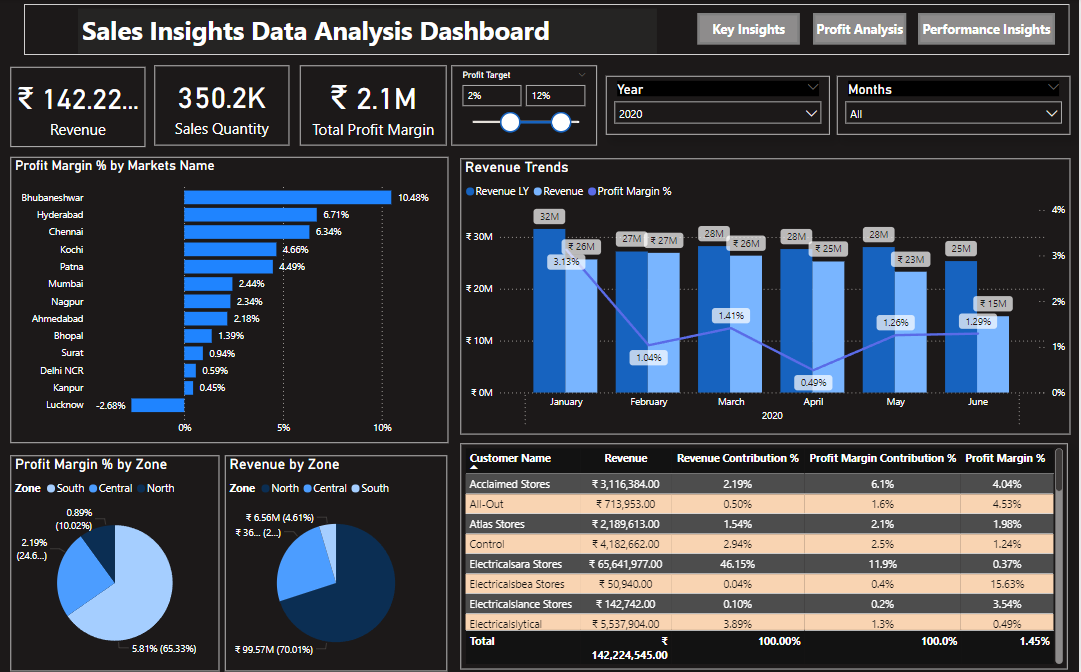

The dashboard page shown, as its layout file describes it:
{"tool":"powerbi","page":{"name":"Performance insights","canvas":[1350,850],"ordinal":2},"visuals":[{"type":"card","fields":{"Values":["keymeasure.Revenue"]},"box":[12.6,85.7,168.6,99.8],"z":0},{"type":"card","fields":{"Values":["keymeasure.sales quntity"]},"box":[193.3,85,168.3,100],"z":1000},{"type":"slicer","fields":{"Values":["sales date.year"]},"box":[758.3,98.3,280,73.3],"z":2000},{"type":"slicer","fields":{"Values":["sales date.cy_date"]},"box":[1048.3,98.3,291.7,73.3],"z":3000},{"type":"card","fields":{"Values":["keymeasure.Total Profit Margin"]},"box":[375,85,183.3,100],"z":4000},{"type":"barChart","title":"Profit Margin % by Markets Name","fields":{"Y":["keymeasure.Profit Margin %"],"Category":["sales markets.markets_name","sales customers.custmer_name","sales products.product_code"]},"box":[12.6,199.5,547.9,358.3],"z":5000},{"type":"lineClusteredColumnComboChart","title":"Revenue Trends","fields":{"Category":["sales date.cy_date.Variation.Date Hierarchy.Year","sales date.cy_date.Variation.Date Hierarchy.Month"],"Y":["keymeasure.Revenue LY","keymeasure.Revenue"],"Y2":["keymeasure.Profit Margin %"]},"box":[576.7,200,763.3,345],"z":6000},{"type":"slicer","fields":{"Values":["Profit Target1.Profit Target"]},"box":[565,85,181.7,100],"z":7000},{"type":"pieChart","title":"Profit Margin % by Zone","fields":{"Y":["keymeasure.Profit Margin %"],"Category":["sales markets.zone"]},"box":[12.6,571.8,261.3,269.8],"z":8000},{"type":"pieChart","title":"Revenue by Zone","fields":{"Category":["sales markets.zone"],"Y":["keymeasure.Revenue"]},"box":[282,572,278,270],"z":9000},{"type":"tableEx","fields":{"Values":["sales customers.custmer_name","keymeasure.Revenue","keymeasure.Revenue Contribution %","keymeasure.Profit Margin Contribution %","keymeasure.Profit Margin %"]},"box":[576,557.8,760.1,282.4],"z":10000},{"type":"shape","box":[30,7.5,1308.8,63.8],"z":11000},{"type":"actionButton","box":[1149.3,19.7,171.4,39.3],"z":12000},{"type":"actionButton","box":[1017.2,19.7,116.6,39.3],"z":13000},{"type":"actionButton","box":[872.5,19.7,127.9,39.3],"z":14000},{"type":"textbox","box":[97.6,13.1,724.8,56.3],"z":17000}]}

Visuals, with their boxes in screenshot pixels (x1, y1, x2, y2), scaled from the page's 1350x850 canvas onto the 1081x672 screenshot:
card - keymeasure.Revenue: rect(10, 68, 145, 147)
card - keymeasure.sales quntity: rect(155, 67, 290, 146)
slicer - sales date.year: rect(607, 78, 831, 136)
slicer - sales date.cy_date: rect(839, 78, 1073, 136)
card - keymeasure.Total Profit Margin: rect(300, 67, 447, 146)
"Profit Margin % by Markets Name" barChart: rect(10, 158, 449, 441)
"Revenue Trends" lineClusteredColumnComboChart: rect(462, 158, 1073, 431)
slicer - Profit Target1.Profit Target: rect(452, 67, 598, 146)
"Profit Margin % by Zone" pieChart: rect(10, 452, 219, 665)
"Revenue by Zone" pieChart: rect(226, 452, 448, 666)
tableEx - sales customers.custmer_name x keymeasure.Revenue: rect(461, 441, 1070, 664)
shape: rect(24, 6, 1072, 56)
actionButton: rect(920, 16, 1058, 47)
actionButton: rect(815, 16, 908, 47)
actionButton: rect(699, 16, 801, 47)
textbox: rect(78, 10, 659, 55)
